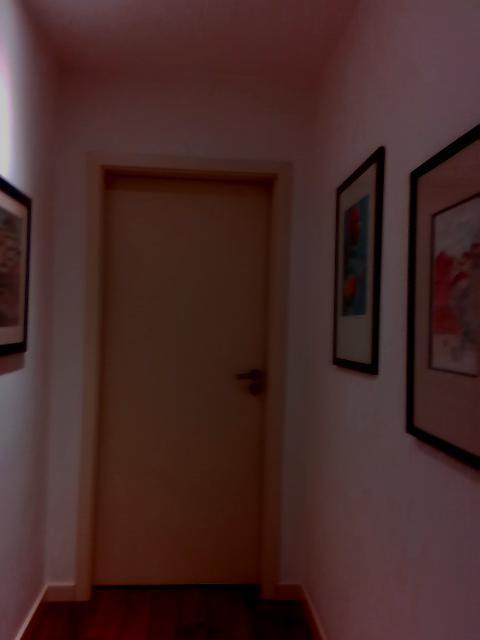closed_door: (75, 156, 291, 611)
